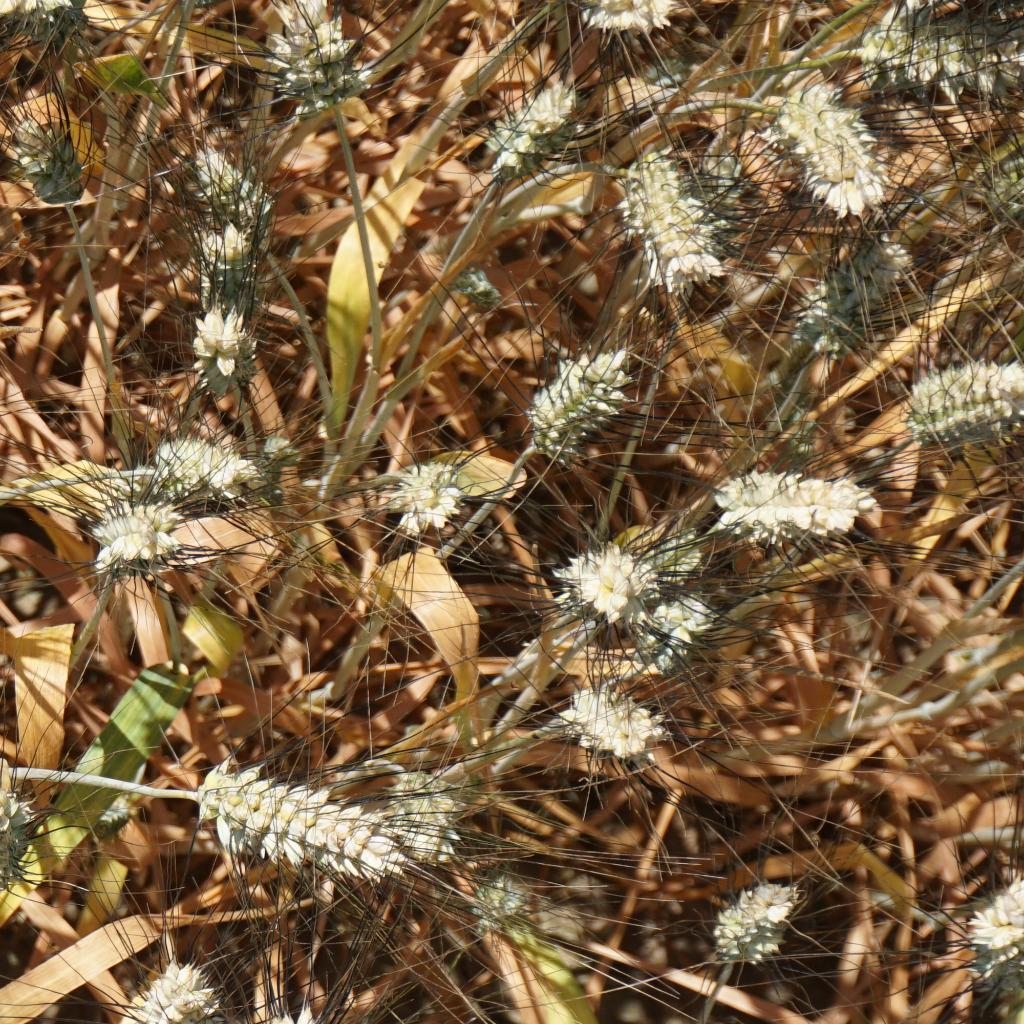0-0: (195, 770, 395, 880), (614, 145, 722, 287), (763, 80, 886, 202), (709, 466, 870, 553), (850, 11, 1002, 100), (519, 330, 624, 453), (179, 132, 305, 234), (902, 340, 1024, 442), (793, 238, 902, 348), (253, 0, 356, 112), (0, 106, 96, 210), (379, 454, 478, 551), (559, 677, 669, 760), (484, 84, 579, 175), (697, 868, 787, 961), (151, 435, 267, 502), (379, 758, 462, 846), (82, 502, 186, 572), (135, 963, 244, 1024), (557, 523, 630, 610), (630, 586, 710, 663), (190, 216, 265, 293), (458, 868, 535, 939), (188, 307, 253, 391), (951, 870, 1024, 943), (0, 777, 35, 874), (240, 1002, 334, 1024)
